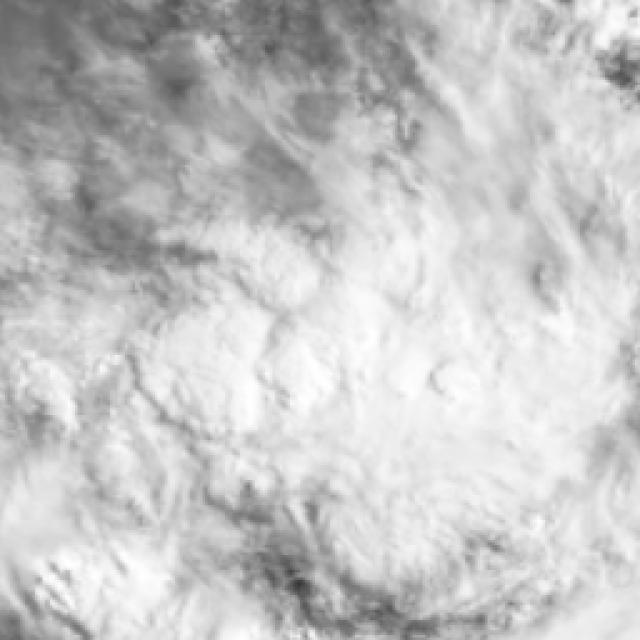CB: (282, 255, 516, 465)
